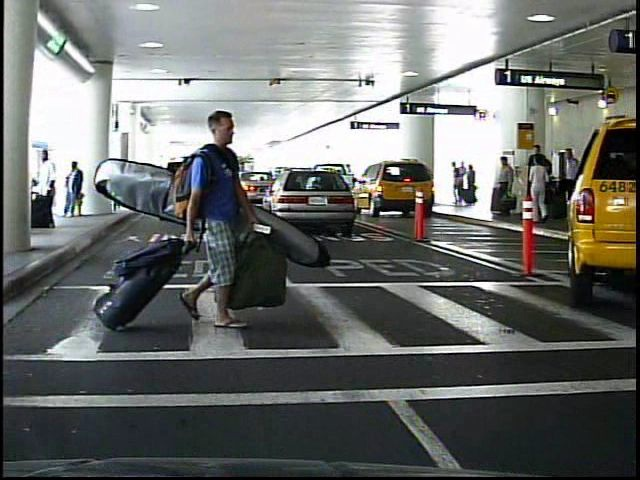person: (183, 102, 269, 350), (29, 148, 60, 231), (63, 157, 89, 223), (528, 143, 549, 219), (530, 155, 551, 224), (494, 157, 516, 220), (449, 160, 463, 208), (560, 145, 577, 183), (456, 161, 468, 208), (465, 162, 477, 206)
